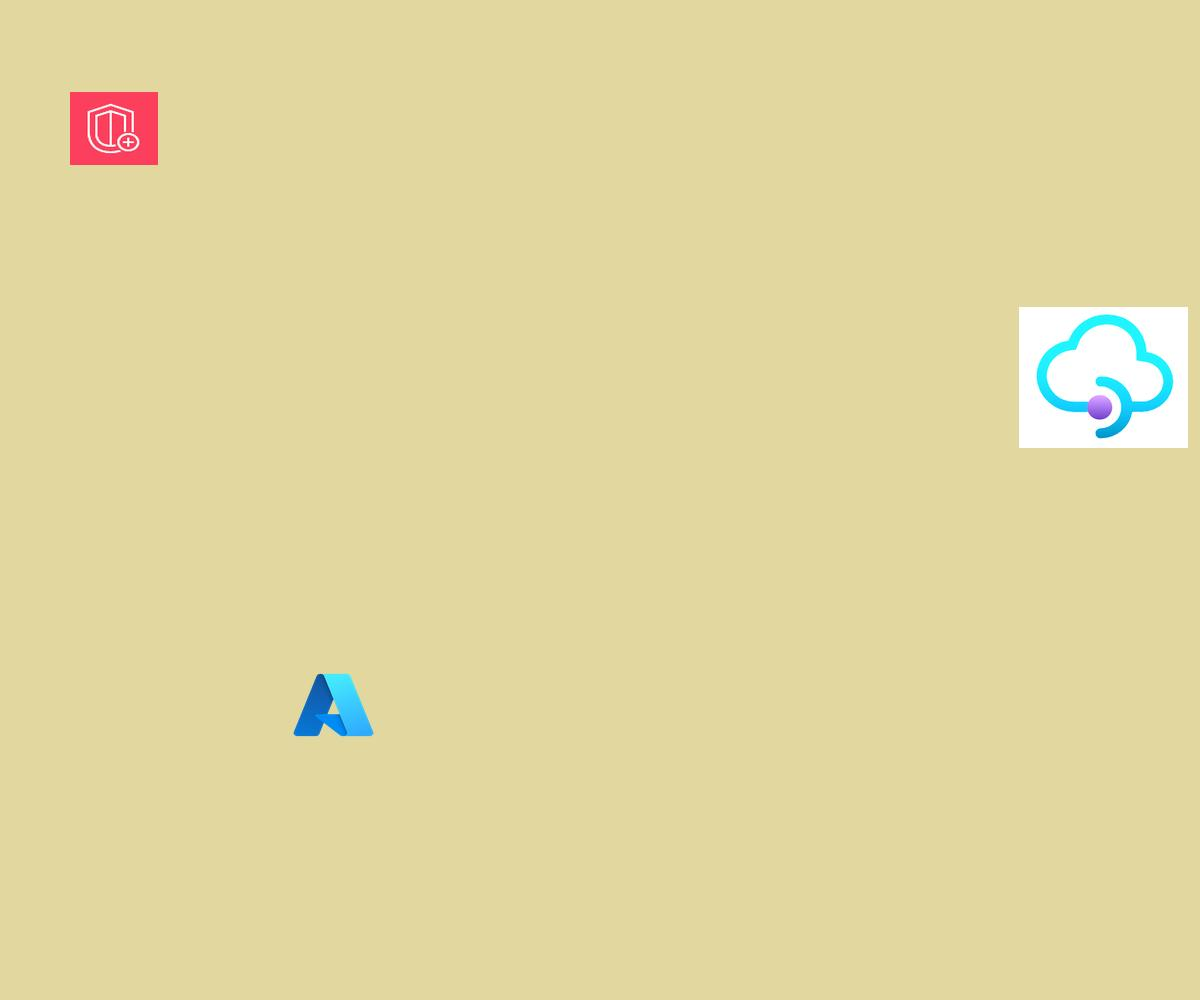AWS-Shield: (70, 92, 158, 165)
Azure_api_gateway: (1019, 307, 1188, 448)
Azure_services: (290, 669, 377, 741)
